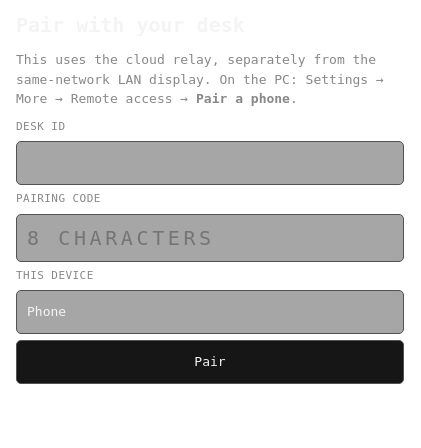
Test: PairScreen › clears the code field on bad_code
Type "desk-42" into the field with test id "pair-desk" at [210, 163], box [16,141,404,185]
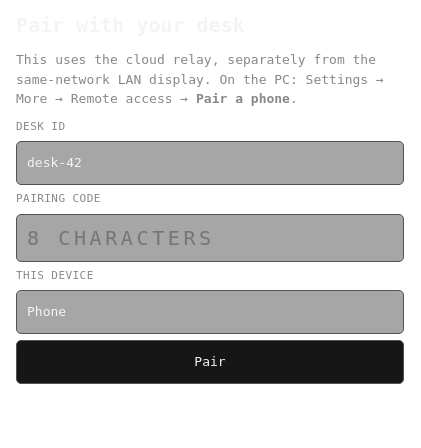
Type "WRONG123" into the field with test id "pair-code" at [210, 238], box [16,214,404,262]
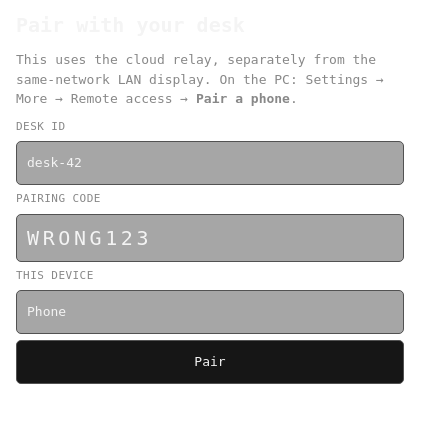
Submit the form with test id "pair-form", box [16,118,404,384]
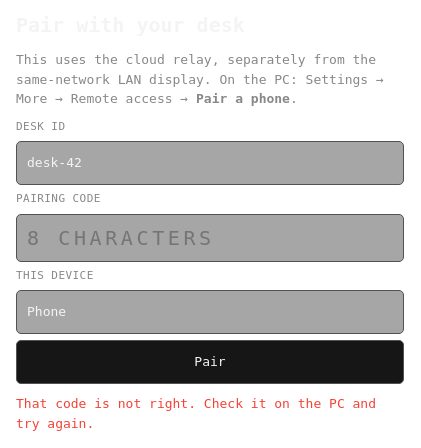
Check: the message with test id "pair-error" shows "not right", box [16,396,376,430]
Check: the field with test id "pair-code" is empty, box [16,214,404,262]
